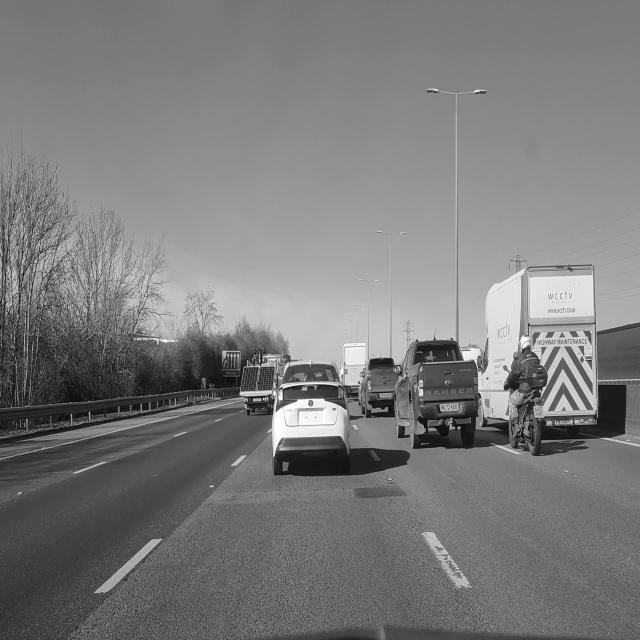car: (392, 331, 482, 456), (272, 362, 350, 474), (360, 353, 400, 417)
motorcycle: (509, 373, 546, 455)
